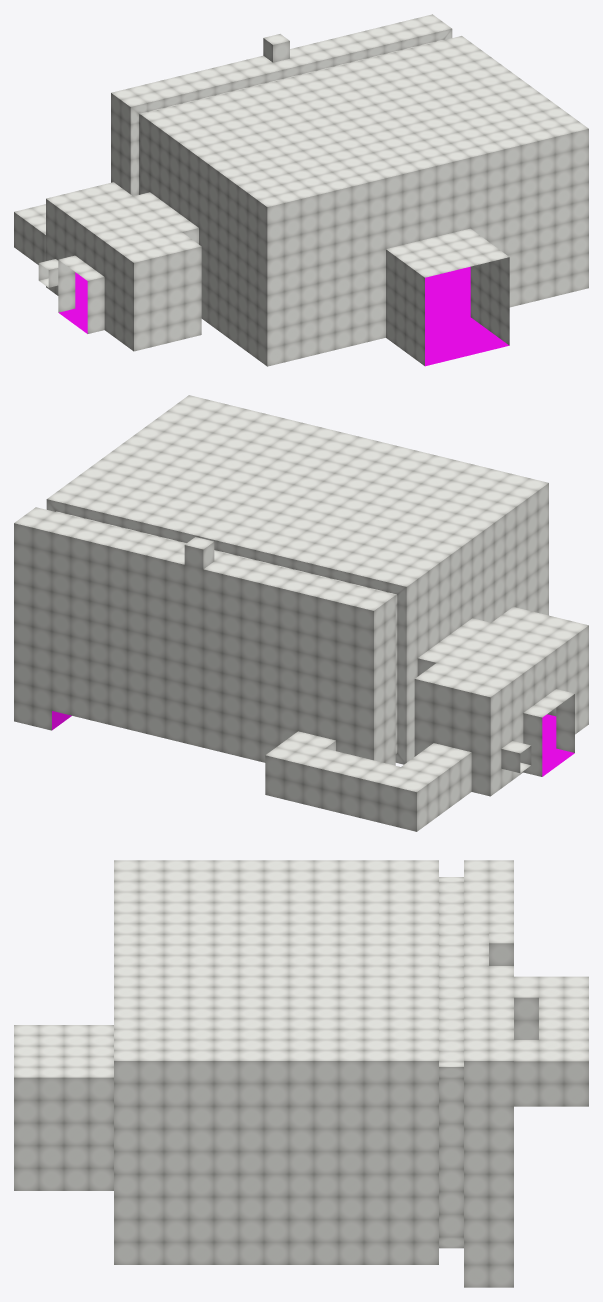
File: external1.fbx
3 renders of one model, top to bottom at view 1: azimuth 30°, elevation 25°; view 2: azimuth 150°, elevation 25°; view 3: azimuth 270°, elevation 25°, orthographic. The views are drawn at different scales.
Parts seen in each view (by area): view 1: external1; view 2: external1; view 3: external1.
Part boxes in pixels (x1,y1,x2,y2): external1: [14, 14, 588, 366]; external1: [14, 395, 588, 831]; external1: [14, 860, 588, 1287].
Bounding box in the file's own units: 23 × 25 × 13.
